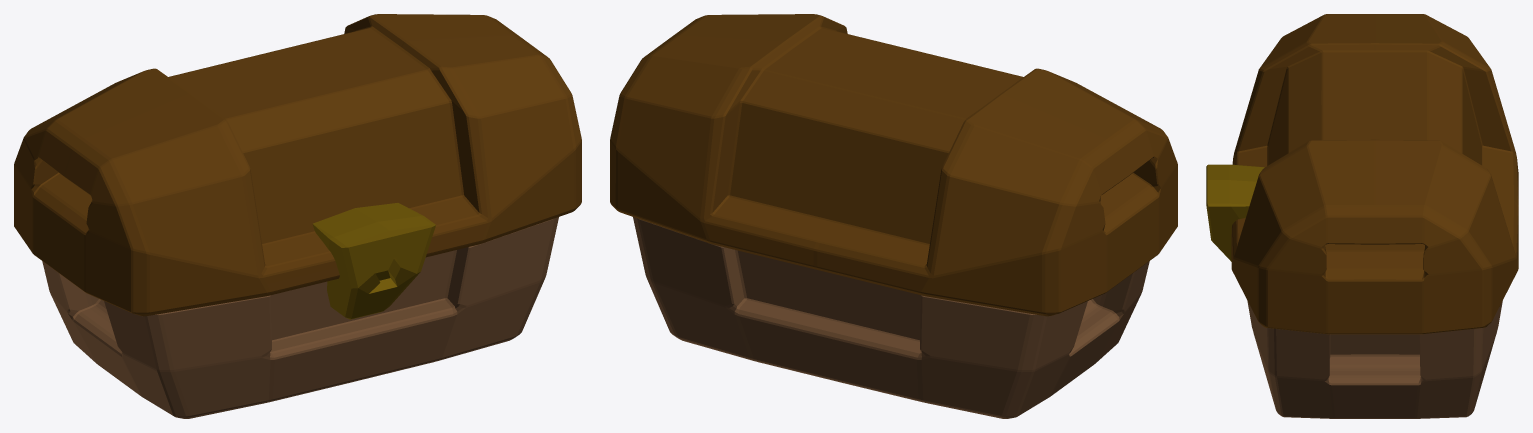
The model's file is chest.fbx.
3 renders of one model, left to right at view 1: azimuth 30°, elevation 25°; view 2: azimuth 150°, elevation 25°; view 3: azimuth 270°, elevation 25°, orthographic. The views are drawn at different scales.
Parts seen in each view (by area): view 1: Top, Bottom, Lock; view 2: Top, Bottom; view 3: Top, Bottom, Lock.
Boxes of the visible parts, left/top/right/bottom form: Top: left=14, top=14, right=581, bottom=316; Bottom: left=42, top=217, right=558, bottom=418; Lock: left=312, top=203, right=435, bottom=319; Top: left=610, top=14, right=1177, bottom=316; Bottom: left=633, top=217, right=1149, bottom=418; Top: left=1231, top=14, right=1518, bottom=334; Bottom: left=1247, top=301, right=1502, bottom=418; Lock: left=1206, top=164, right=1264, bottom=261.
Size of the model in its own units: 561 by 309 by 347.
